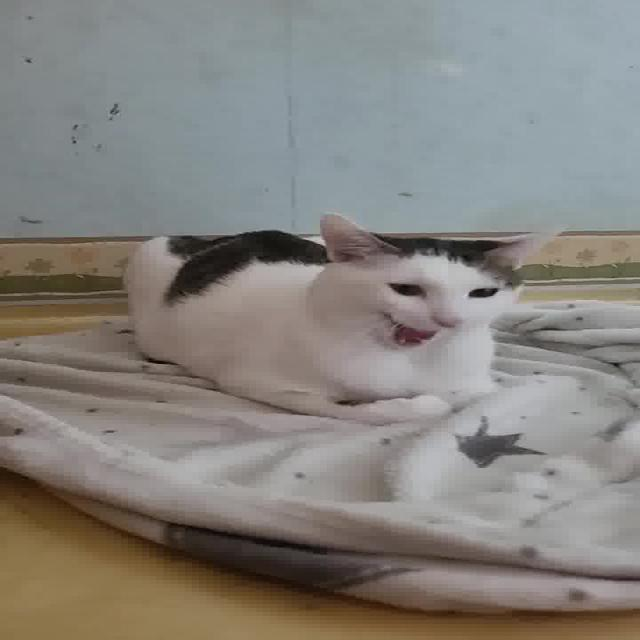cat: (114, 204, 586, 425)
